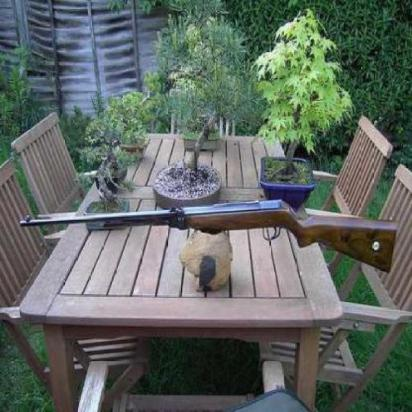Gun: (19, 204, 398, 274)
